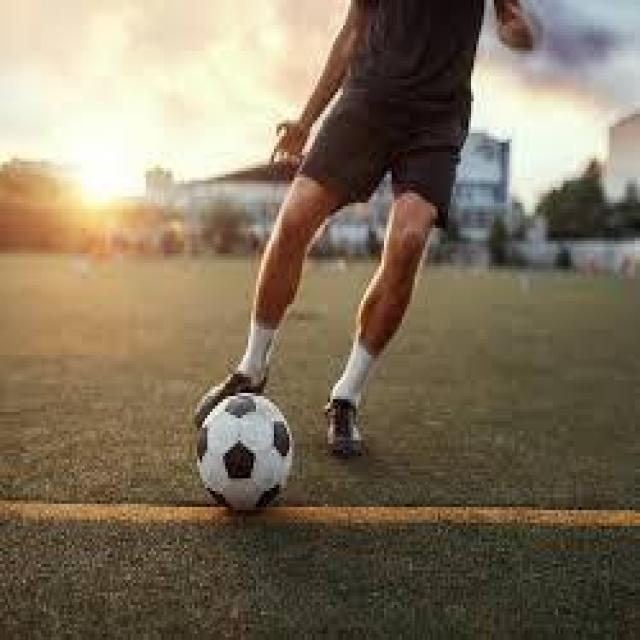Soccer Ball: (194, 390, 292, 513)
